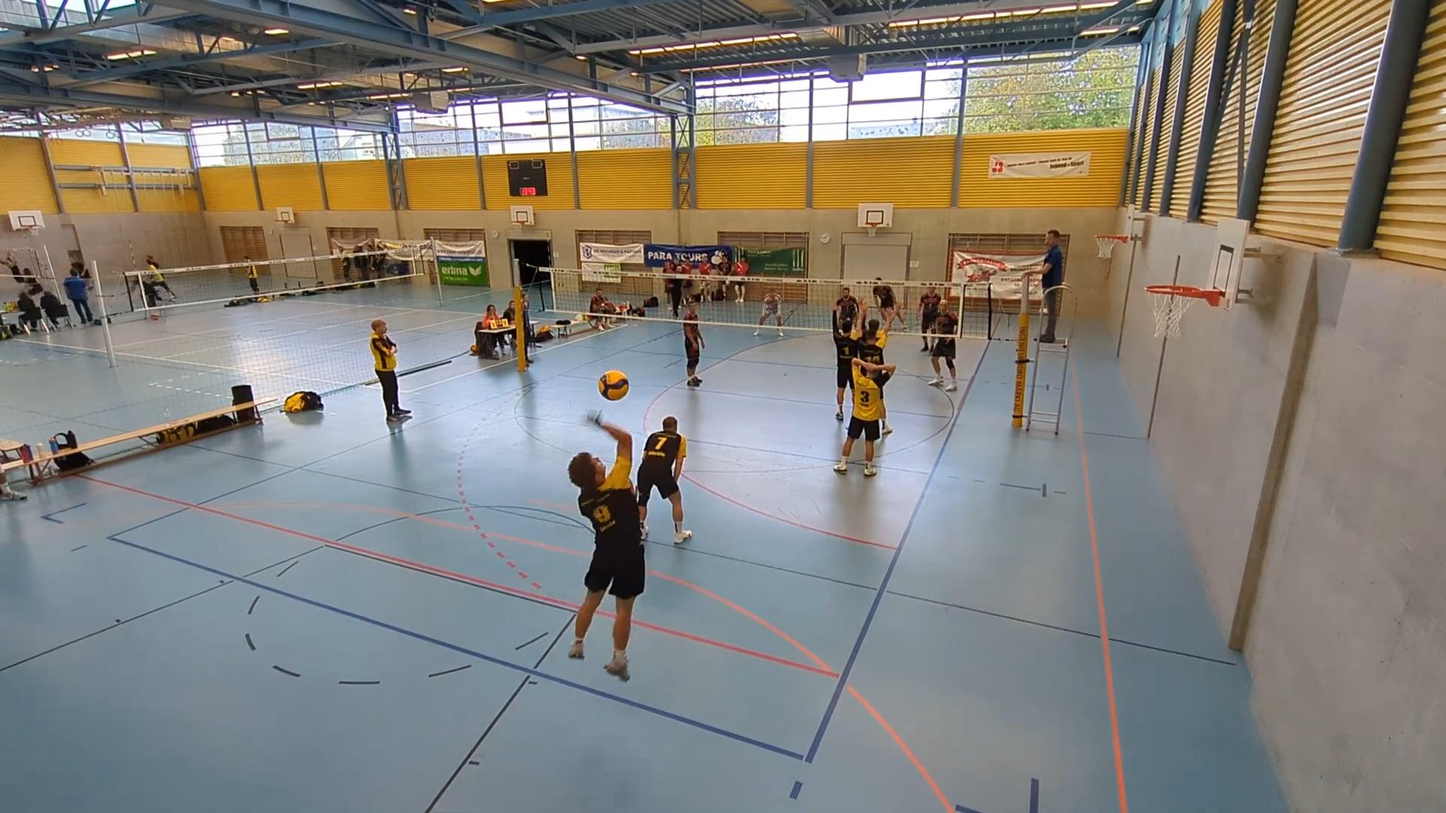battuta: (566, 412, 655, 685)
